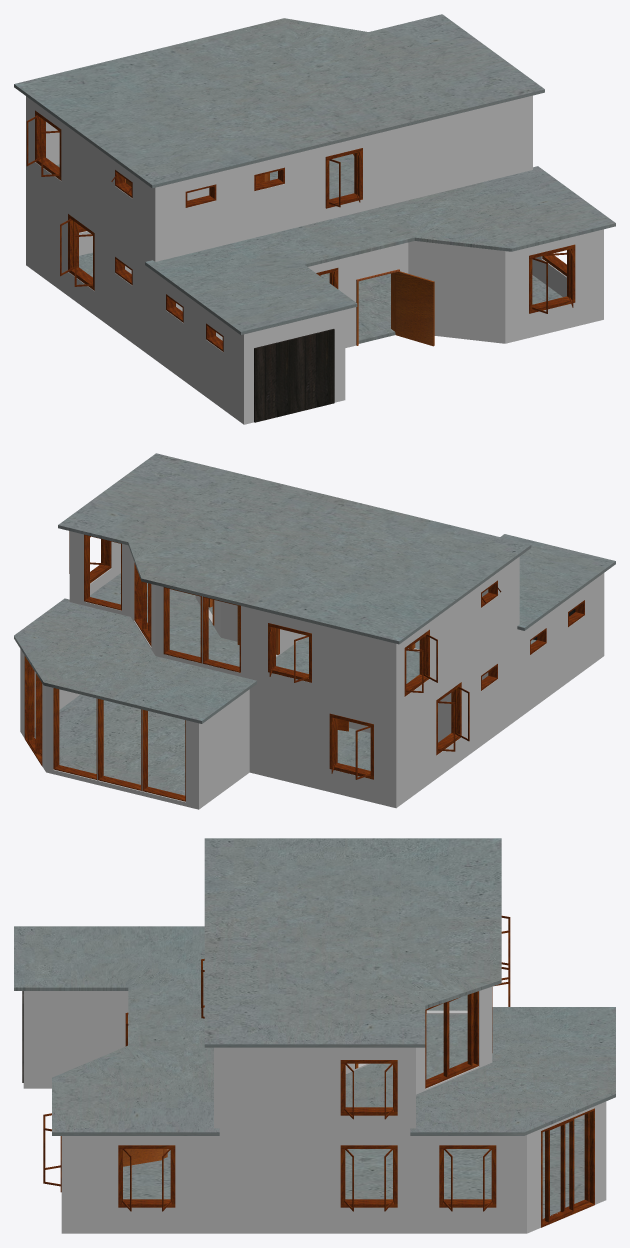
File: allHouse.DAE
The picture shows the model from 3 angles, top to bottom: view 1: azimuth 30°, elevation 25°; view 2: azimuth 150°, elevation 25°; view 3: azimuth 270°, elevation 25°; orthographic projection. The views are drawn at different scales.
Parts seen in each view (by area): view 1: roof-2, external-wall-1, external-wall-2, roof-1, PivotDoor002, PivotDoor011, floor-1, CasementWindow003, CasementWindow007, CasementWindow015, CasementWindow013, floor-2; view 2: roof-2, external-wall-1, external-wall-2, tarace, floor-1, roof-1, floor-2, SlidingWindow001, internal-wall-2, CasementWindow008, CasementWindow007, CasementWindow016 (+10 smaller); view 3: roof-2, external-wall-1, roof-1, tarace, external-wall-2, floor-1, floor-2, SlidingWindow001, SlidingWindow002, CasementWindow004, CasementWindow005, CasementWindow006 (+2 smaller).
Boxes of the visible parts, x1,y1,x2,y2 form: roof-2: (14,14,544,188); external-wall-1: (26,169,603,424); external-wall-2: (26,95,532,261); roof-1: (145,166,615,334); PivotDoor002: (254,329,334,422); PivotDoor011: (356,269,434,346); floor-1: (79,252,562,343); CasementWindow003: (529,244,575,313); CasementWindow007: (60,214,94,290); CasementWindow015: (26,110,61,180); CasementWindow013: (325,148,362,208); floor-2: (56,154,354,199); roof-2: (58,453,531,644); external-wall-1: (20,573,604,809); external-wall-2: (69,531,519,715); tarace: (14,598,256,723); floor-1: (34,639,536,795); roof-1: (500,534,615,630); floor-2: (90,573,419,683); SlidingWindow001: (24,656,42,766); internal-wall-2: (195,595,419,657); CasementWindow008: (329,713,373,779); CasementWindow007: (436,682,469,755); CasementWindow016: (268,623,311,682); roof-2: (204,838,501,1047); external-wall-1: (23,991,606,1233); roof-1: (14,926,219,1135); tarace: (410,1007,615,1135); external-wall-2: (214,987,492,1129); floor-1: (123,1119,584,1218); floor-2: (345,995,467,1107); SlidingWindow001: (541,1108,594,1227); SlidingWindow002: (425,991,478,1088); CasementWindow004: (118,1145,175,1211); CasementWindow005: (340,1145,397,1211); CasementWindow006: (439,1145,496,1211).
Size of the model in its own units: 13.23 by 15.8 by 5.65.
4 materials, 3 textured.
